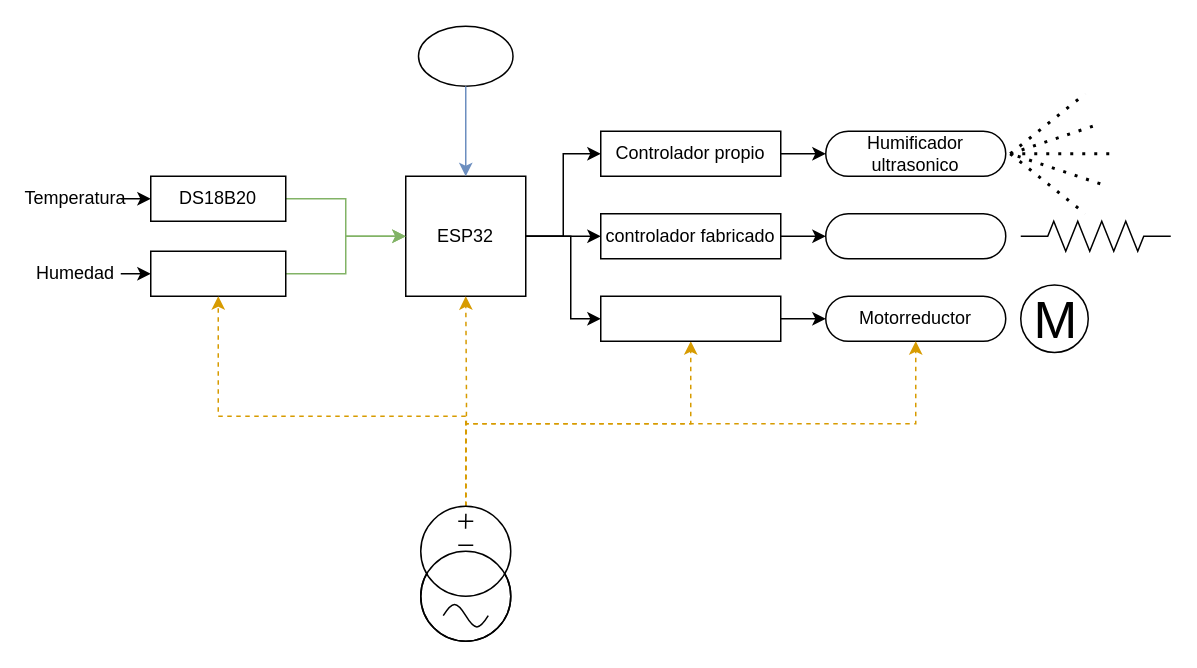
Some shapes in this 1197 by 668 pixel diagram are drawn without their labels. Here are the shapes that lost their labels. From the top down, the box of each, then its label:
(417, 25, 513, 86): DS3231
(824, 212, 1006, 259): Resistencia blindada
(149, 250, 286, 296): DHT22
(599, 295, 781, 341): Puente H L293D
